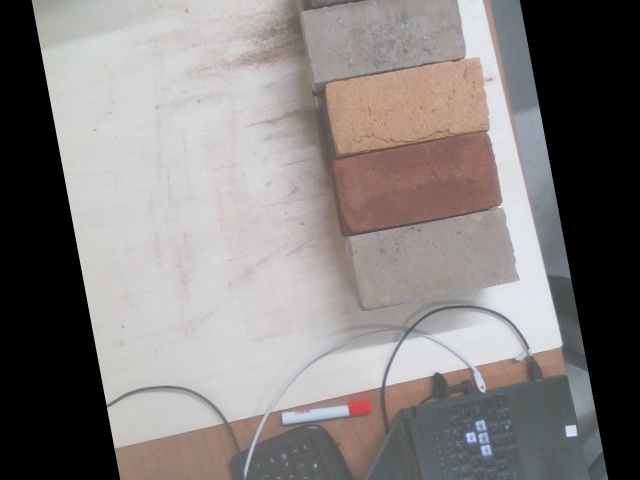brick: (353, 207, 515, 311), (337, 132, 499, 232), (328, 59, 489, 152)
